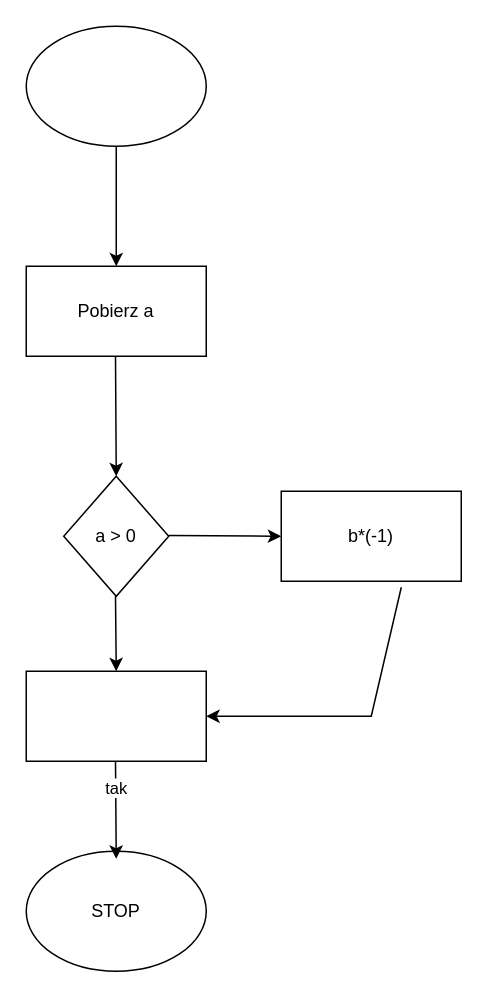
Image size: 488x998. Some labels were removed from this diagram. The shapes that lost their labels are listed below. From the top down, each one's box as (x1, y1, x2, y2) in pixels, then its label:
(25, 25, 206, 146): START
(25, 670, 206, 761): wyświetl b
